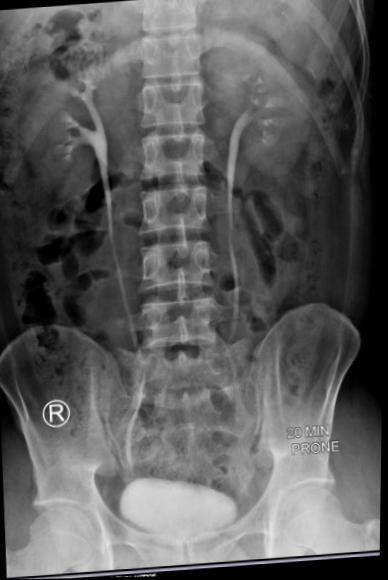bladder: (110, 467, 252, 552)
left kidney: (228, 28, 325, 198)
right kidney: (12, 45, 119, 209)
vertebrae: (137, 77, 216, 133)
